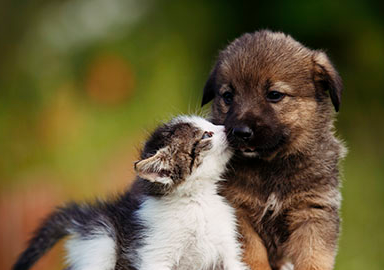cat: (127, 111, 236, 194)
dog: (195, 26, 347, 163)
